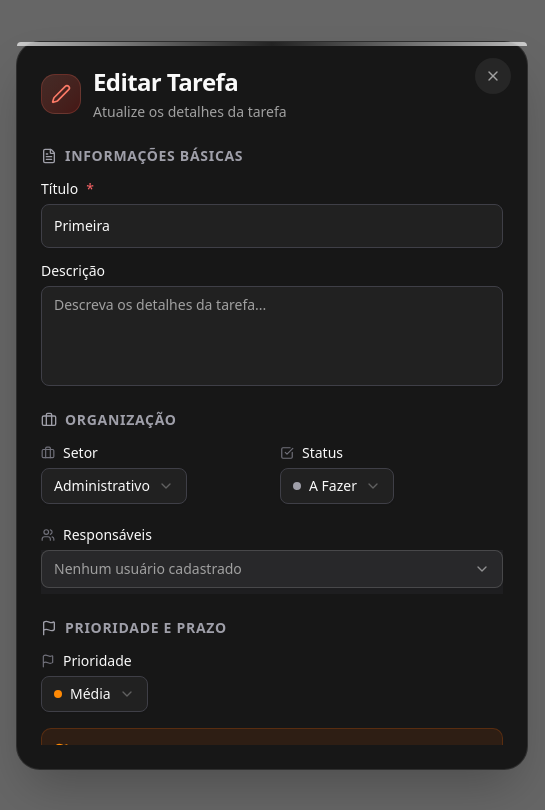
Test: task editor lifecycle and persistence › waits for persistence and retains the draft on failure
The width and height of the screenshot is (545, 810).
Replace the text in the field labelled "Título *" with "Rascunho" at (272,226), box [41,204,503,248]
(page scrolled)
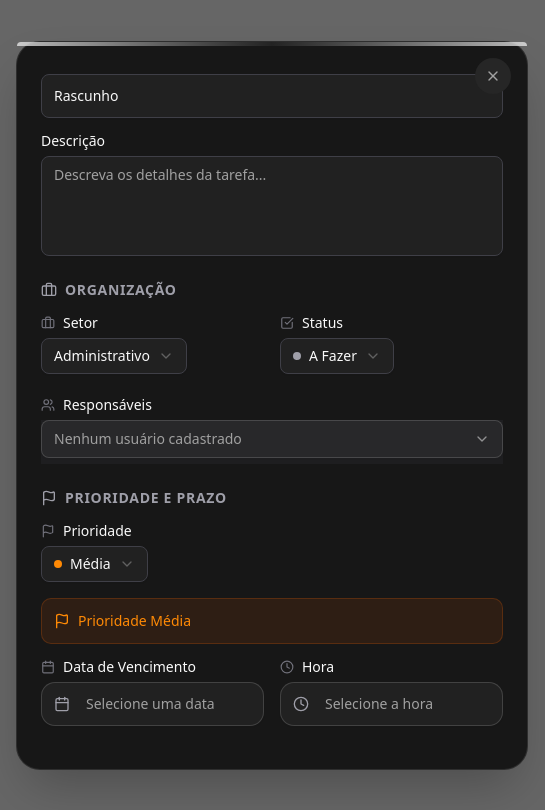
Submit the form
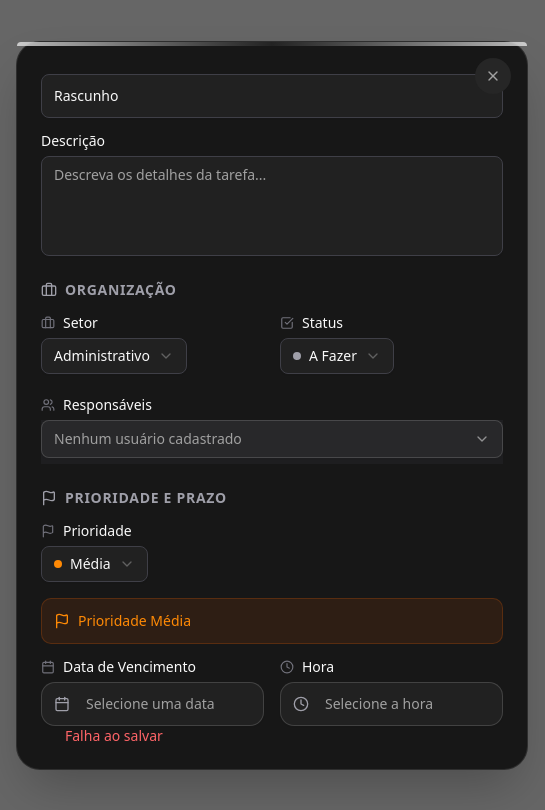
Now the message reads "Falha ao salvar", box [65,726,163,744]
